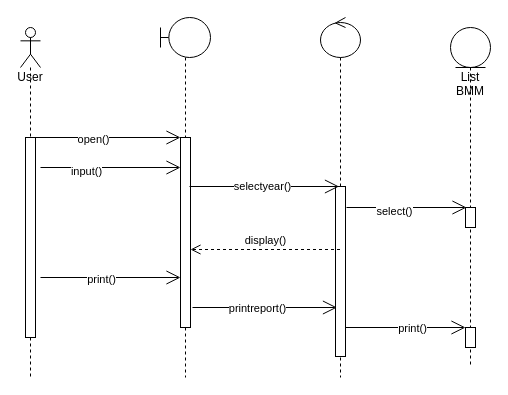
Image size: 508x395. Some labels were removed from this diagram. Here are the shapes that lost their labels. From the top down, the box of each, then its label:
(160, 16, 210, 378): Halaman Report Pergeseran Material by Year
(320, 16, 360, 378): Control Report Pergeseran Material by Year
